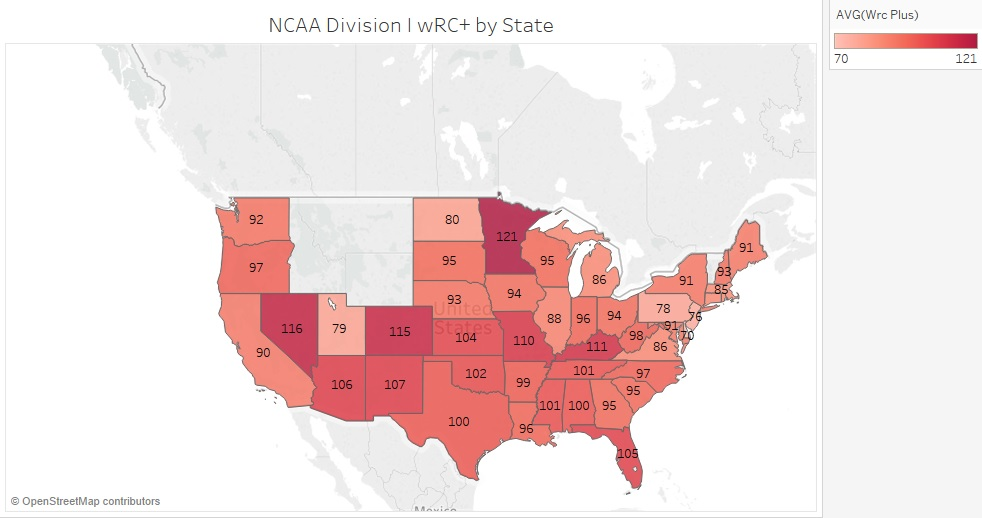

Layout of this report page (visuals, bound fields, positions):
{"tool":"tableau","page":{"name":"Dashboard 1","canvas":[1000,800],"ordinal":0},"visuals":[{"type":"worksheet","title":"Sheet 1 (2)","mark":"Multipolygon","box":[0,430,210,119]},{"type":"legend","title":"Sheet 1","param":"[federated.07tj7qf0zxa0i91a50yd70klw90s].[avg:Park Factor:qk]","box":[856,493,140,76]}]}

Visuals, with their boxes on the page's 1000x800 design canvas (x1, y1, x2, y2). These are canvas units, not pixel positions in the 982x518 screenshot, which may show the page scaled, cropped or inside an application window:
"Sheet 1 (2)" worksheet (Multipolygon marks): {"x1": 0, "y1": 430, "x2": 210, "y2": 549}
"Sheet 1" legend: {"x1": 856, "y1": 493, "x2": 996, "y2": 569}
